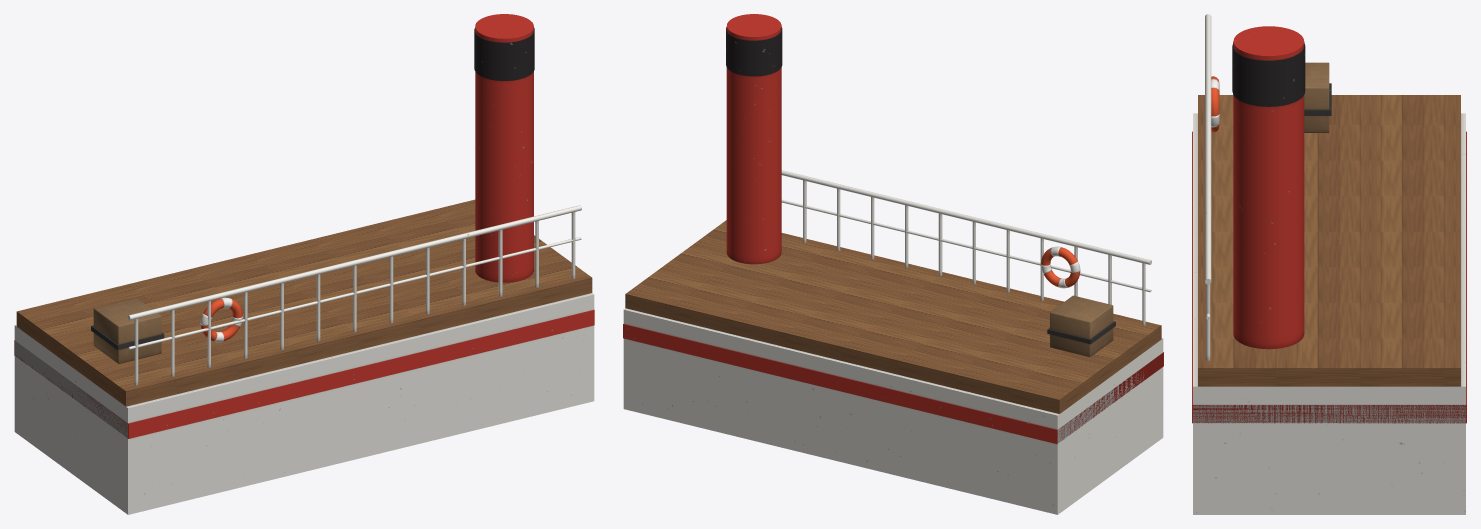
The model's file is ship_deck.fbx.
The picture shows the model from 3 angles, left to right: view 1: azimuth 30°, elevation 25°; view 2: azimuth 150°, elevation 25°; view 3: azimuth 270°, elevation 25°; orthographic projection. The views are drawn at different scales.
Visible parts, largest first — view 1: ship_fittings, ship_deck; view 2: ship_fittings, ship_deck; view 3: ship_fittings, ship_deck.
Part boxes in pixels (<box>): ship_fittings: <box>14,14,594,514</box>; ship_deck: <box>16,199,592,406</box>; ship_fittings: <box>623,14,1163,514</box>; ship_deck: <box>625,220,1161,413</box>; ship_fittings: <box>1192,14,1466,514</box>; ship_deck: <box>1198,95,1460,386</box>.
Bounding box in the file's own units: 6.4 × 4.8 × 2.72.
